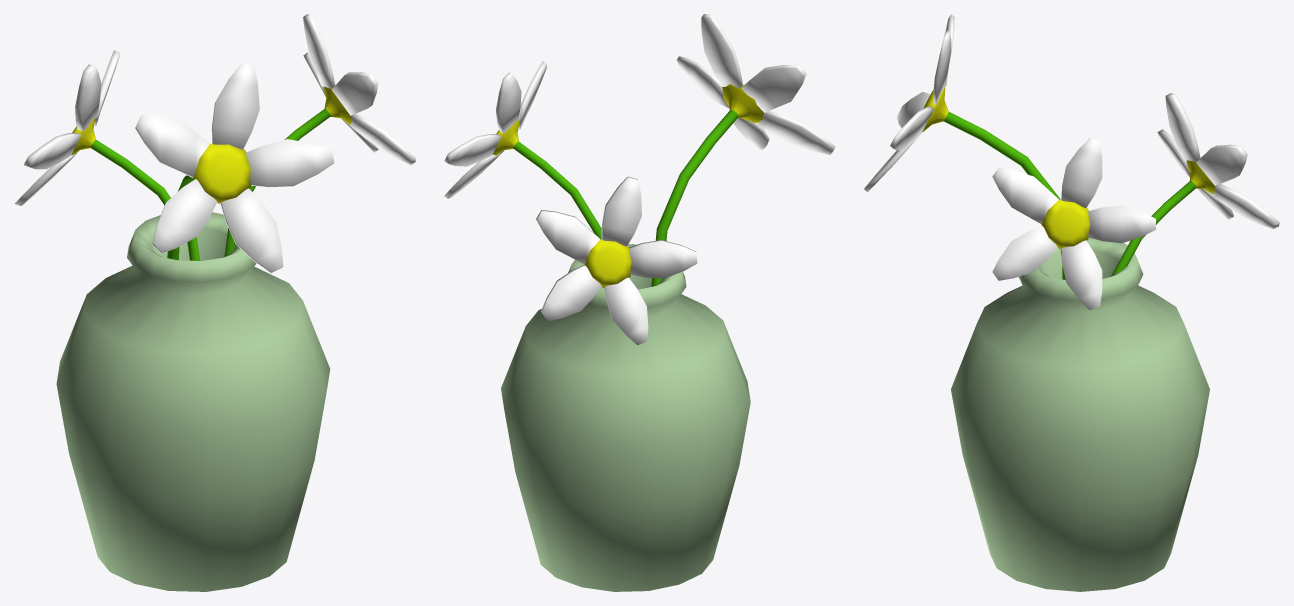
The model's file is FlowerPot.fbx.
3 views of the same model, side by side, from view 1: azimuth 30°, elevation 25°; view 2: azimuth 150°, elevation 25°; view 3: azimuth 270°, elevation 25° (orthographic). The views are drawn at different scales.
Visible parts, largest first — view 1: FlowerVase; view 2: FlowerVase; view 3: FlowerVase.
Part boxes in pixels (left/top/right/bottom): FlowerVase: left=15, top=14, right=415, bottom=591; FlowerVase: left=444, top=14, right=835, bottom=591; FlowerVase: left=864, top=14, right=1279, bottom=591.
Bounding box in the file's own units: 3.89 × 6.24 × 4.59.
